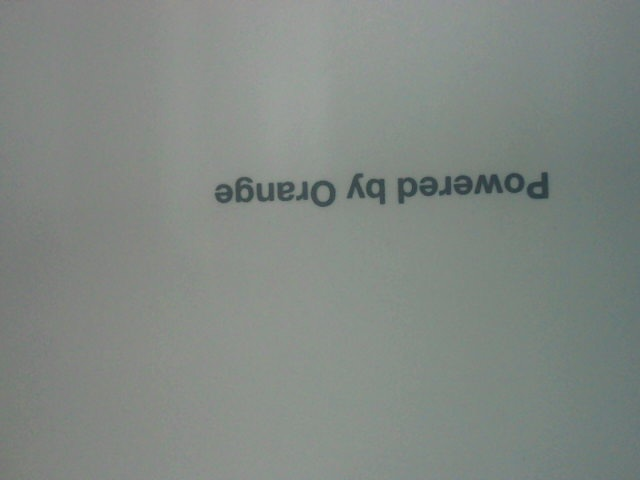AS_PowerByOrange: (193, 159, 555, 221)
